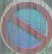No waiting: (2, 4, 51, 51)
